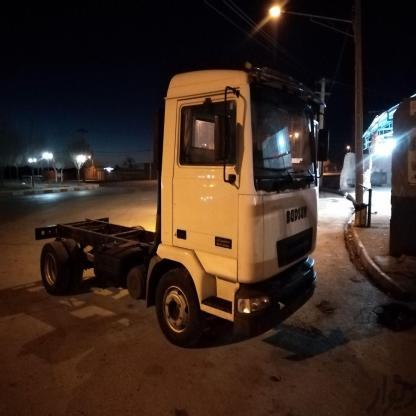Truck: (37, 68, 315, 346)
